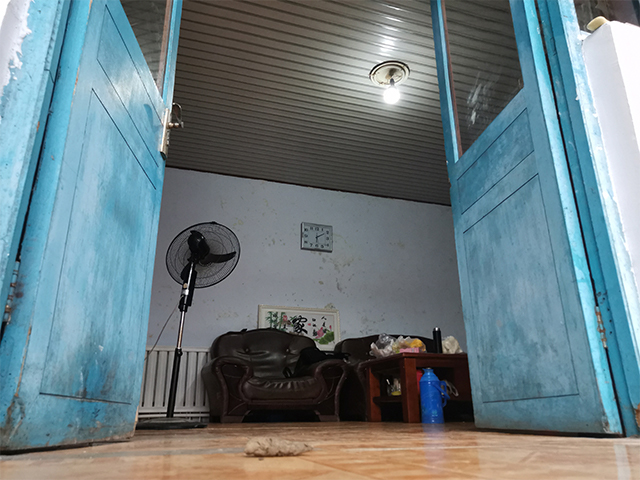feces: (241, 434, 315, 460)
sofa: (198, 324, 353, 425)
table: (356, 351, 472, 424)
